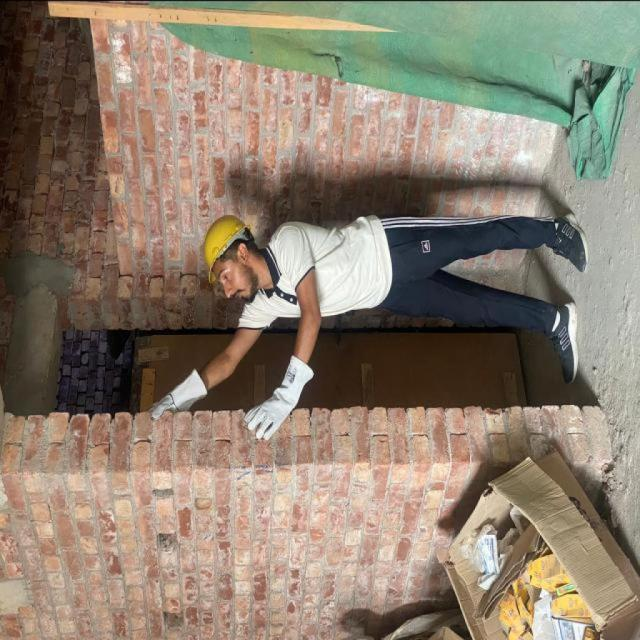Gloves-Detection: (257, 361, 313, 433), (151, 368, 215, 426)
